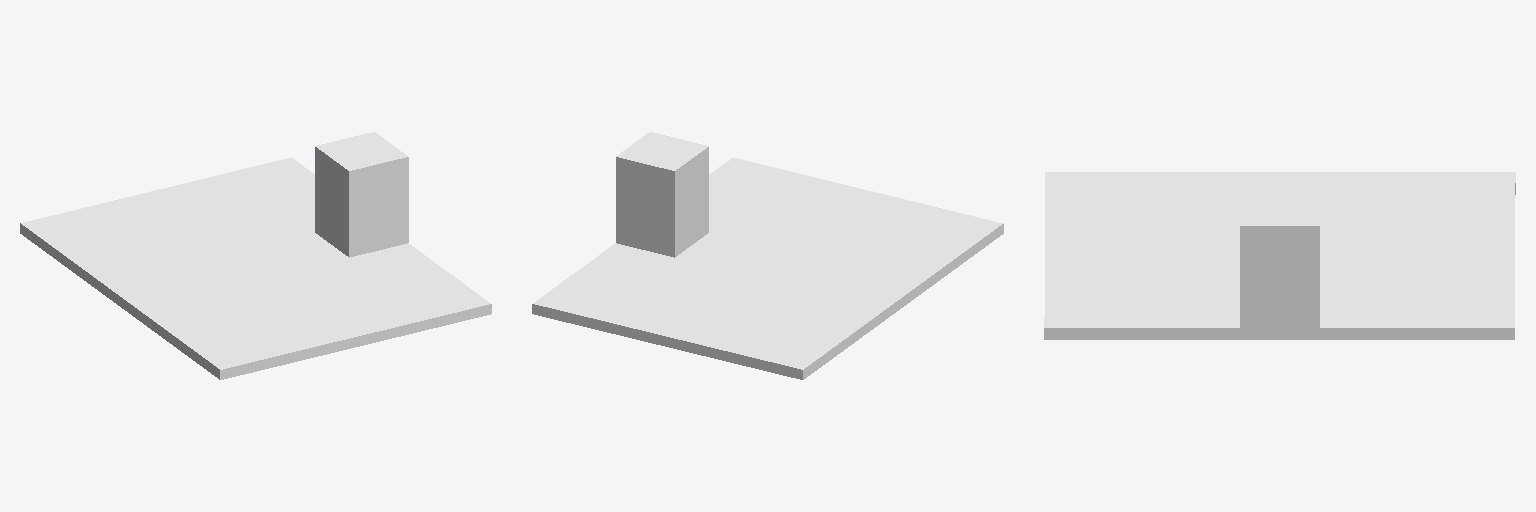
robot.urdf — urdf_table:
<?xml version="0.0" ?>

<robot name="urdf_table">
<link name="world"/>
    <joint name="fixed" type="fixed">
        <parent link="world"/>
        <child link="baseLink"/>
        <origin xyz="0 0 0"/>
    </joint>
<link name="baseLink">
    <inertial>
      <origin rpy="0 0 0" xyz="0 0 0.6"/>
       <mass value="0"/>
       <inertia ixx="0.1" ixy="0" ixz="0" iyy="0.1" iyz="0" izz="0.1"/>
    </inertial>
    <visual>
      <origin rpy="0 0 1.57" xyz="0 0 0.82"/>
      <geometry>
	    <mesh filename="table2.stl" scale="0.001 0.001 0.001"/>
      </geometry>
	   <material name="framemat0">
      <color
                    rgba="1 1 1 1" />
      </material>
    </visual>
    <collision>
      <origin rpy="0 0 1.57" xyz="0 0 0.82"/>
      <geometry>
	    <mesh filename="table2.stl" scale="0.001 0.001 0.001"/>
      </geometry>
    </collision>
  </link>
</robot>

--- Facts derived from the render (not from the file) ---
The picture shows the robot from 3 angles, left to right: view 1: azimuth 30°, elevation 25°; view 2: azimuth 150°, elevation 25°; view 3: azimuth 270°, elevation 25°; orthographic projection.
Robot: urdf_table — 2 links, 1 joints (1 fixed); root link world; default pose: every joint at zero.
Visible links, largest first — view 1: baseLink; view 2: baseLink; view 3: baseLink.
Link boxes in pixels (left/top/right/bottom): baseLink: left=20, top=132, right=491, bottom=379; baseLink: left=532, top=132, right=1003, bottom=379; baseLink: left=1044, top=172, right=1515, bottom=339.
Bounding box of the posed robot: 0.8208 × 1.05 × 0.28 m (x, y, z).
Meshes: 1 distinct files referenced, 1 mesh visuals loaded (1 binary STL).